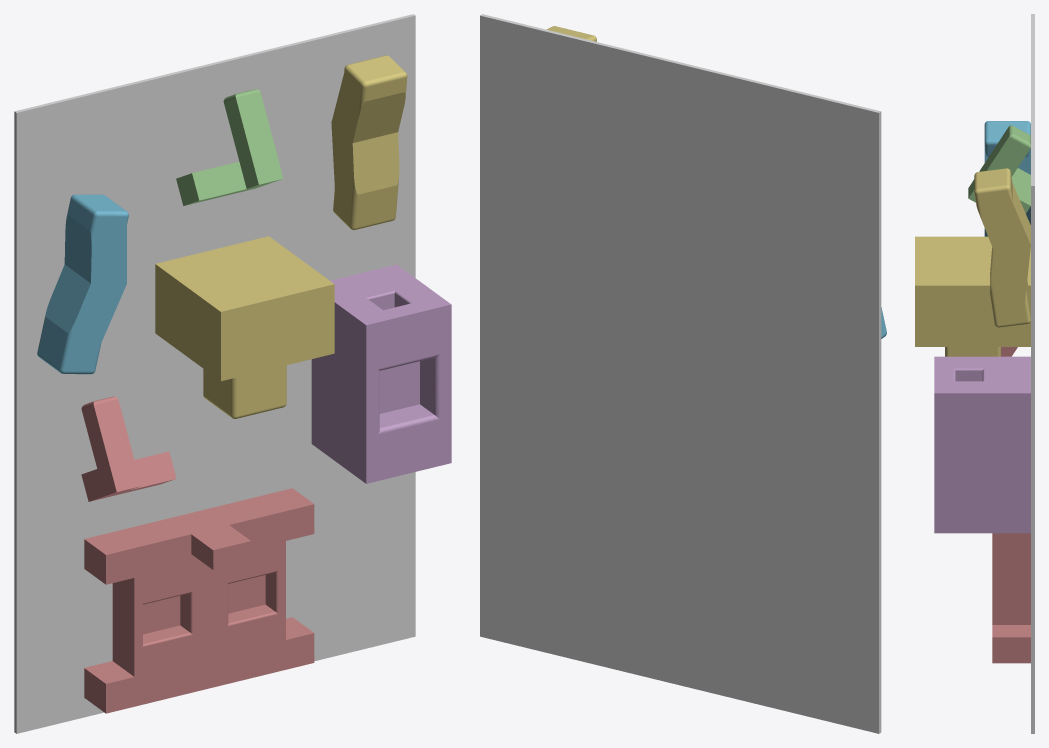
File: pickup_layout.glb
3 views of the same model, side by side, from view 1: azimuth 30°, elevation 25°; view 2: azimuth 150°, elevation 25°; view 3: azimuth 270°, elevation 25° (orthographic). The views are drawn at different scales.
Visible parts, largest first — view 1: world, 0.obj, 3.obj, 6.obj, 2.obj, 1.obj, 4.obj, 5.obj; view 2: world; view 3: 3.obj, 6.obj, 1.obj, 0.obj, world, 4.obj, 2.obj.
Part boxes in pixels (left/top/right/bottom): world: left=14, top=14, right=415, bottom=733; 0.obj: left=84, top=488, right=314, bottom=713; 3.obj: left=311, top=264, right=451, bottom=483; 6.obj: left=155, top=236, right=334, bottom=418; 2.obj: left=37, top=194, right=128, bottom=374; 1.obj: left=331, top=55, right=407, bottom=230; 4.obj: left=176, top=89, right=283, bottom=205; 5.obj: left=81, top=396, right=176, bottom=501; world: left=480, top=14, right=881, bottom=733; 3.obj: left=934, top=356, right=1030, bottom=533; 6.obj: left=915, top=236, right=1030, bottom=356; 1.obj: left=974, top=168, right=1030, bottom=327; 0.obj: left=992, top=533, right=1030, bottom=663; world: left=1031, top=14, right=1034, bottom=733; 4.obj: left=968, top=125, right=1030, bottom=213; 2.obj: left=984, top=121, right=1030, bottom=236.
Size of the model in its own units: 21.06 by 31.32 by 6.2.
